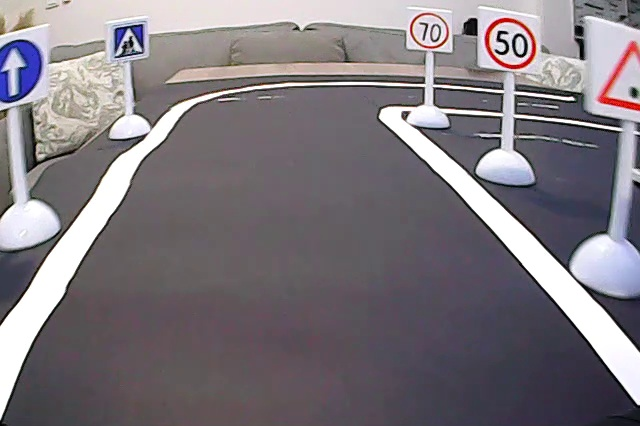green light: (590, 29, 640, 117)
school crossing: (112, 23, 146, 59)
speed limit 50: (481, 13, 541, 73)
speed limit 70: (409, 9, 452, 51)
